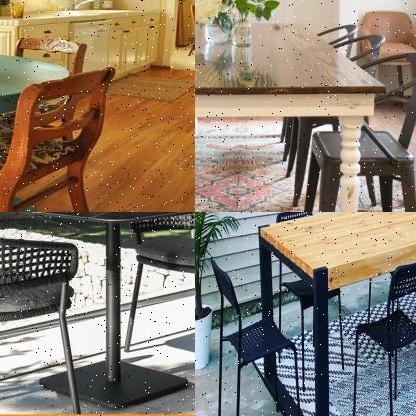table: (0, 212, 194, 415), (195, 19, 394, 211), (256, 212, 415, 415), (0, 48, 76, 211)
